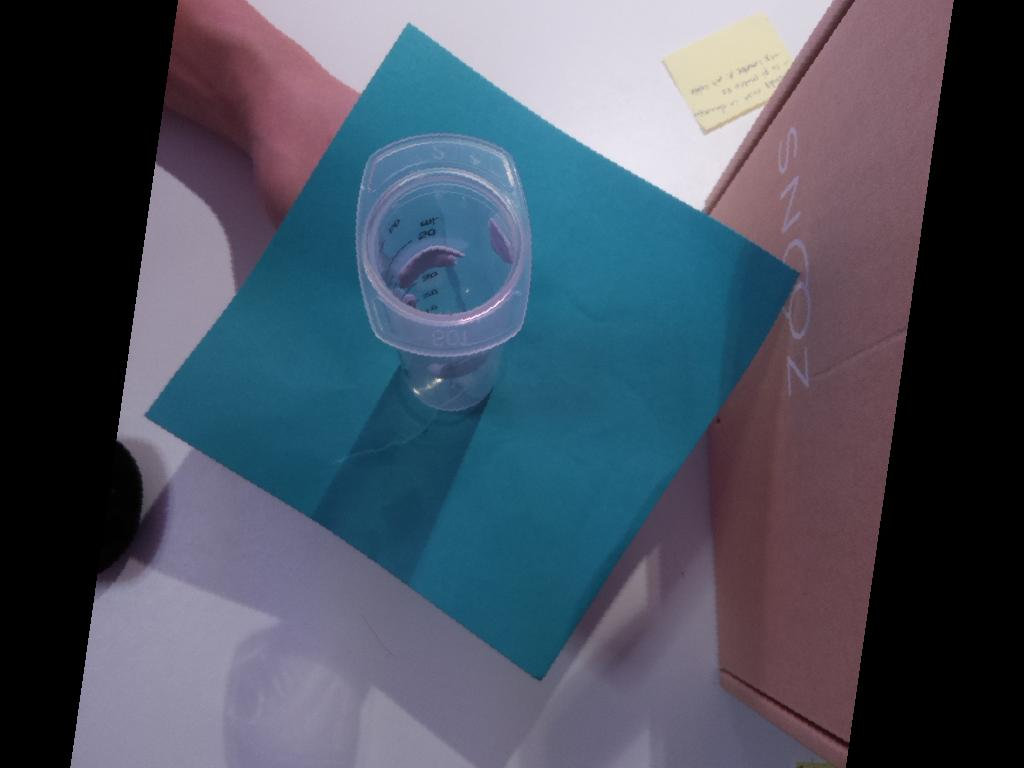dirty: (354, 131, 531, 357)
